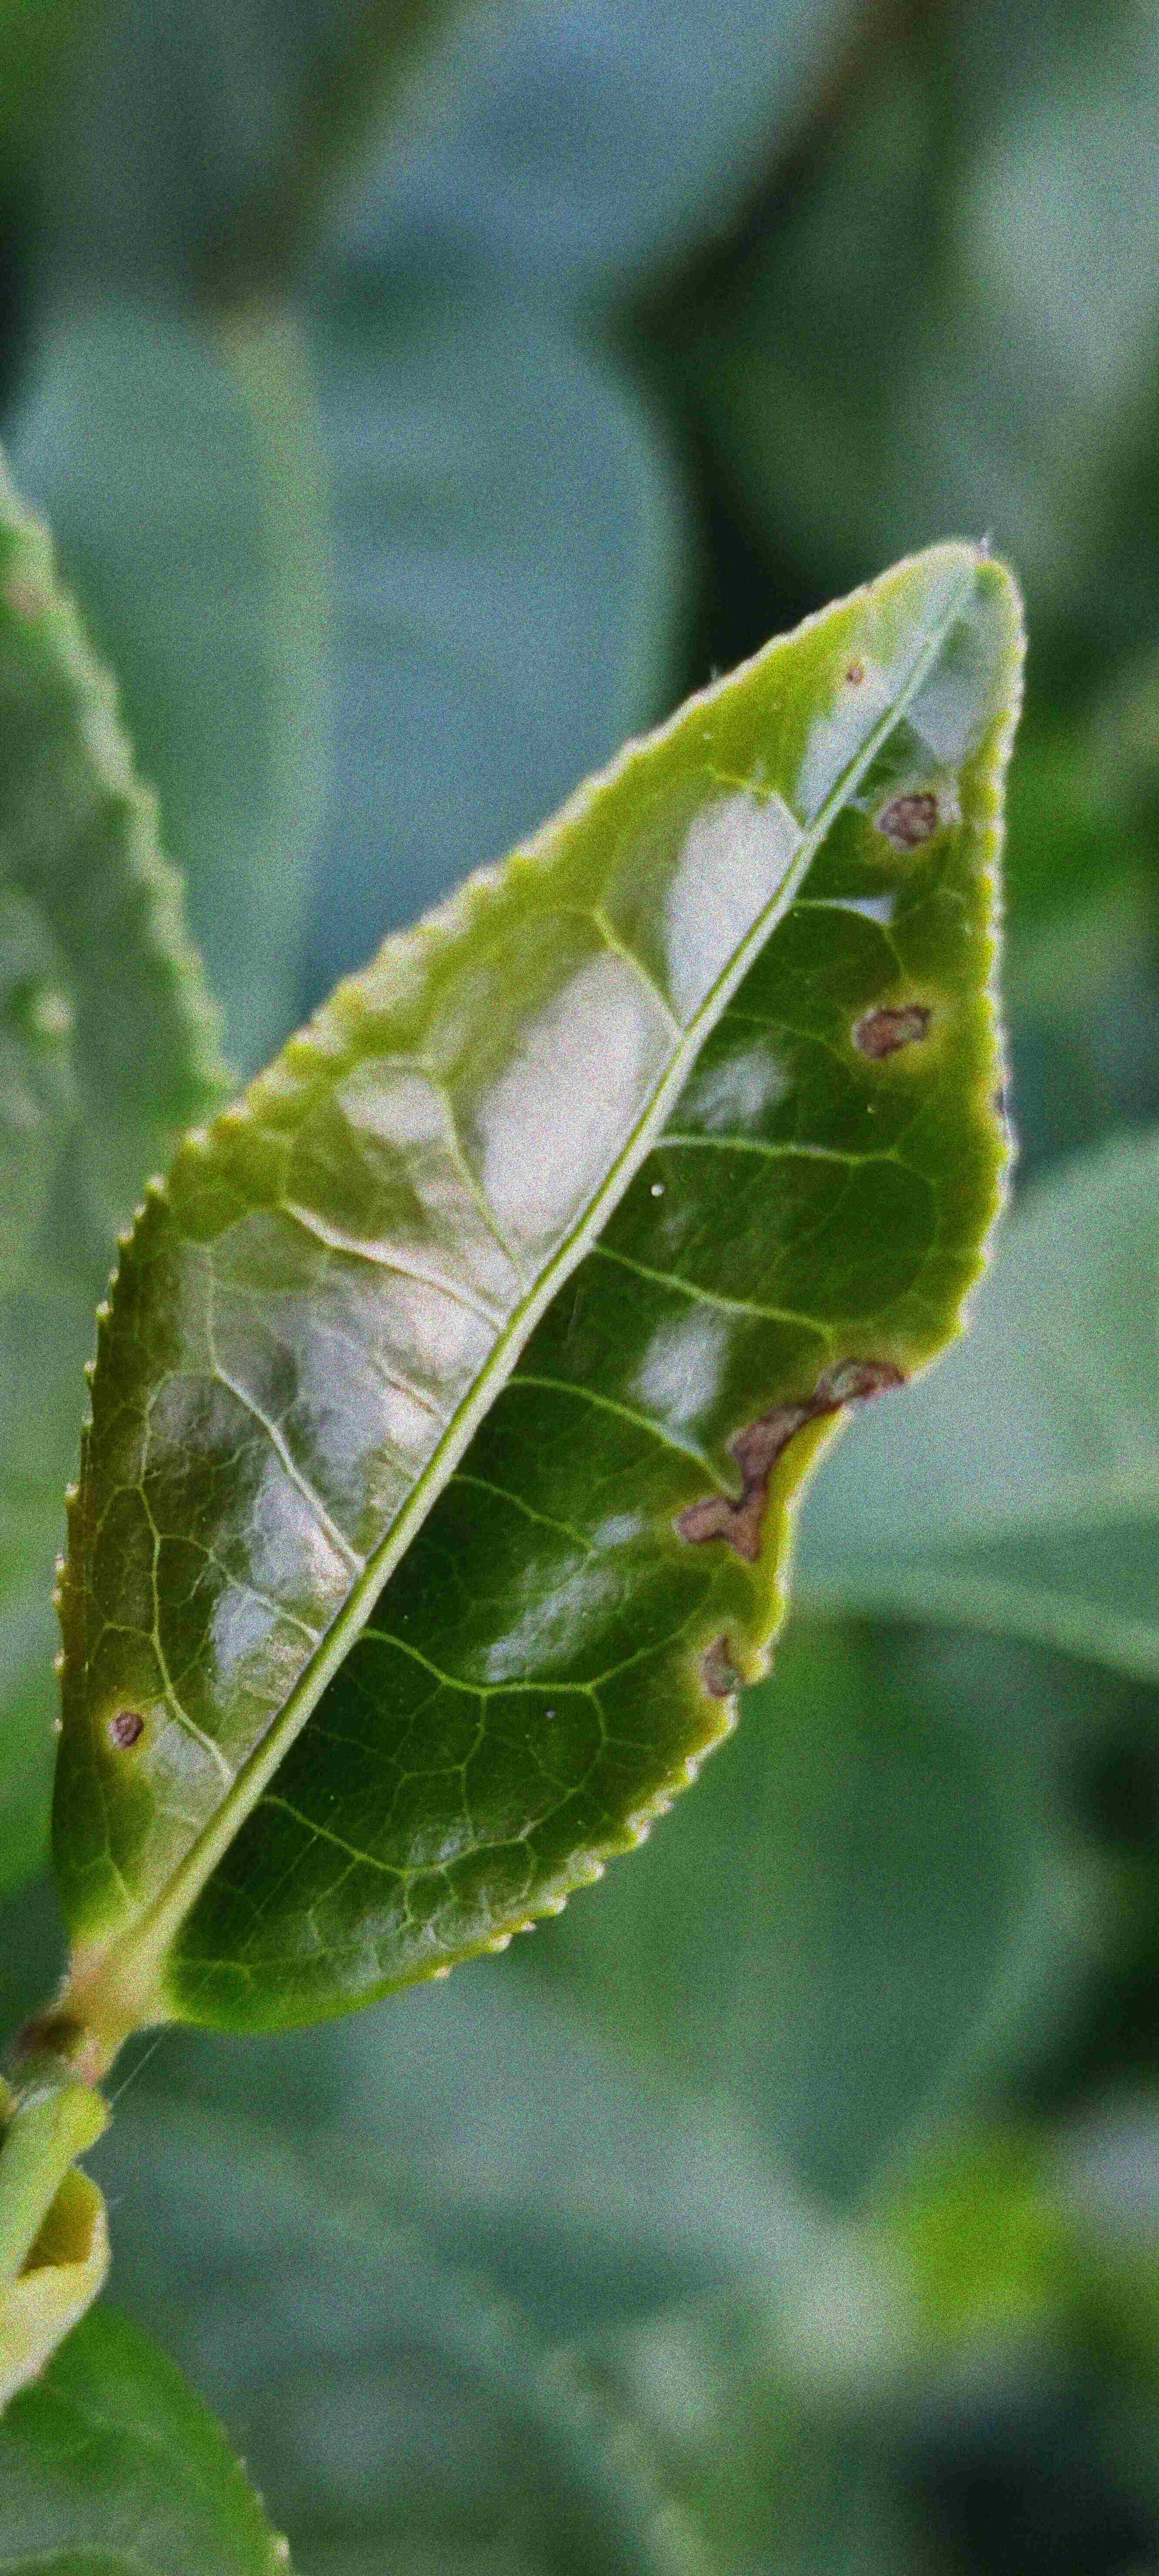tanju_high: (41, 545, 1034, 2042)
